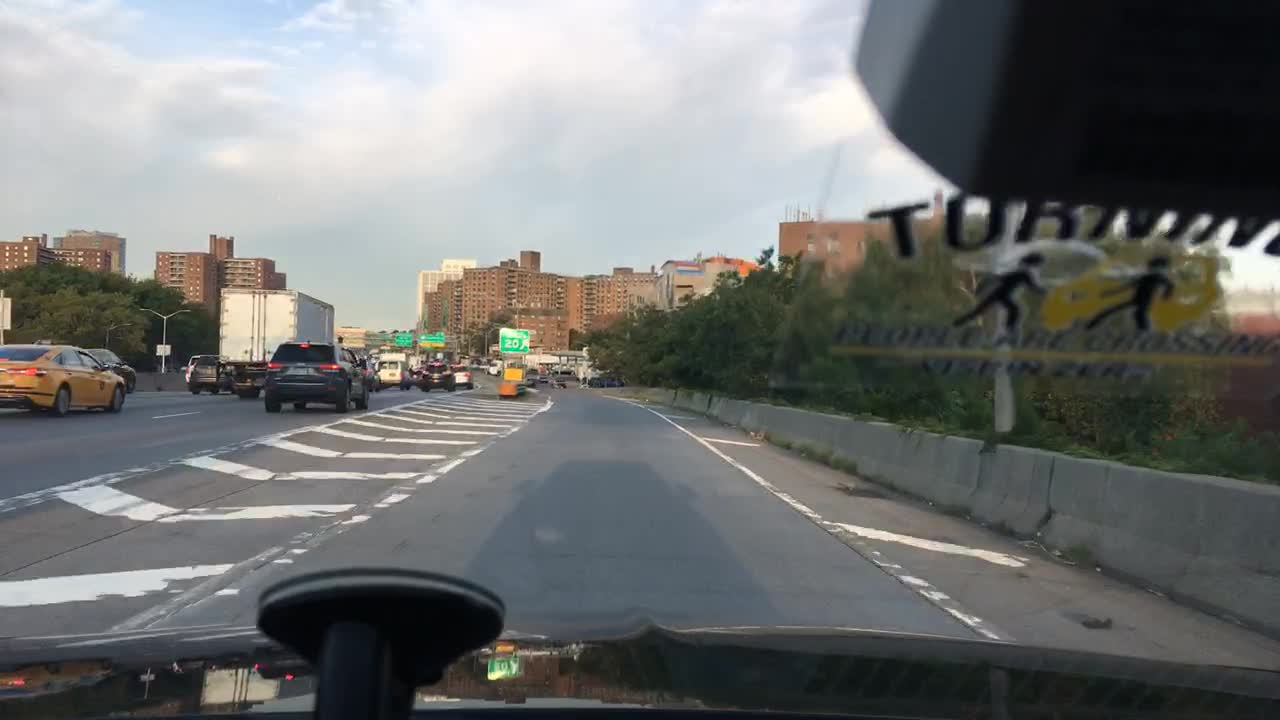car: (0, 336, 129, 417), (263, 338, 370, 413), (84, 346, 138, 393), (217, 358, 266, 399), (189, 353, 227, 396), (350, 346, 383, 392), (420, 361, 456, 390), (372, 358, 402, 387), (399, 364, 426, 390), (450, 362, 473, 387), (183, 352, 201, 383), (589, 372, 615, 389), (482, 361, 500, 374)
traffic sign: (497, 327, 529, 352), (416, 330, 446, 346), (393, 330, 412, 348), (155, 343, 171, 355)
